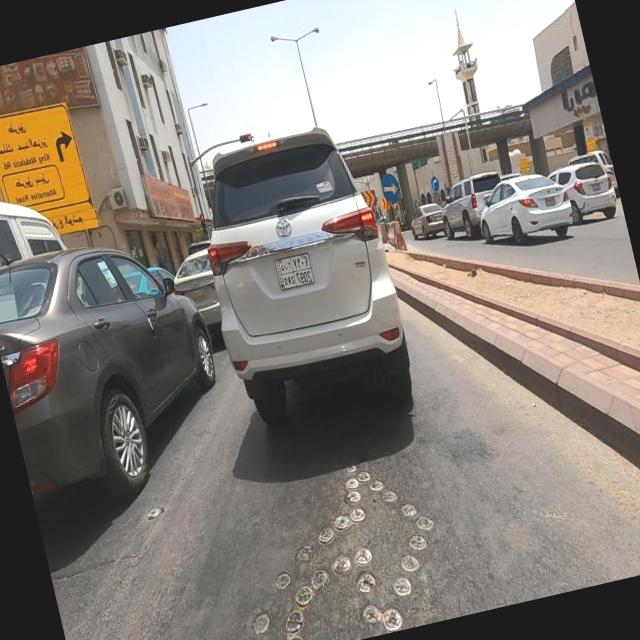debris: (98, 132, 249, 274), (356, 136, 430, 242), (444, 232, 498, 314)
